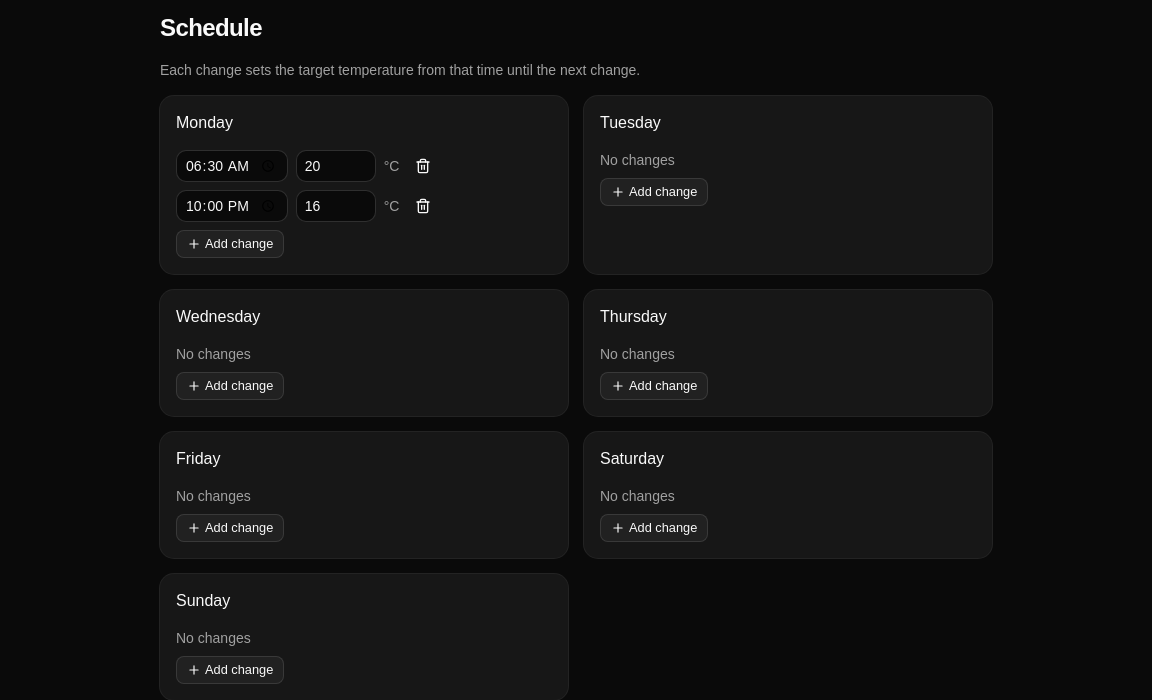
it: ScheduleEditor › shows a save failure
The image size is (1152, 700).
Expected: the time field named "Monday change 1 time" is shown, [176,150,288,182]
Click the button named "Remove Monday change 1": x=423, y=166 [407,150,439,182]
(page scrolled)
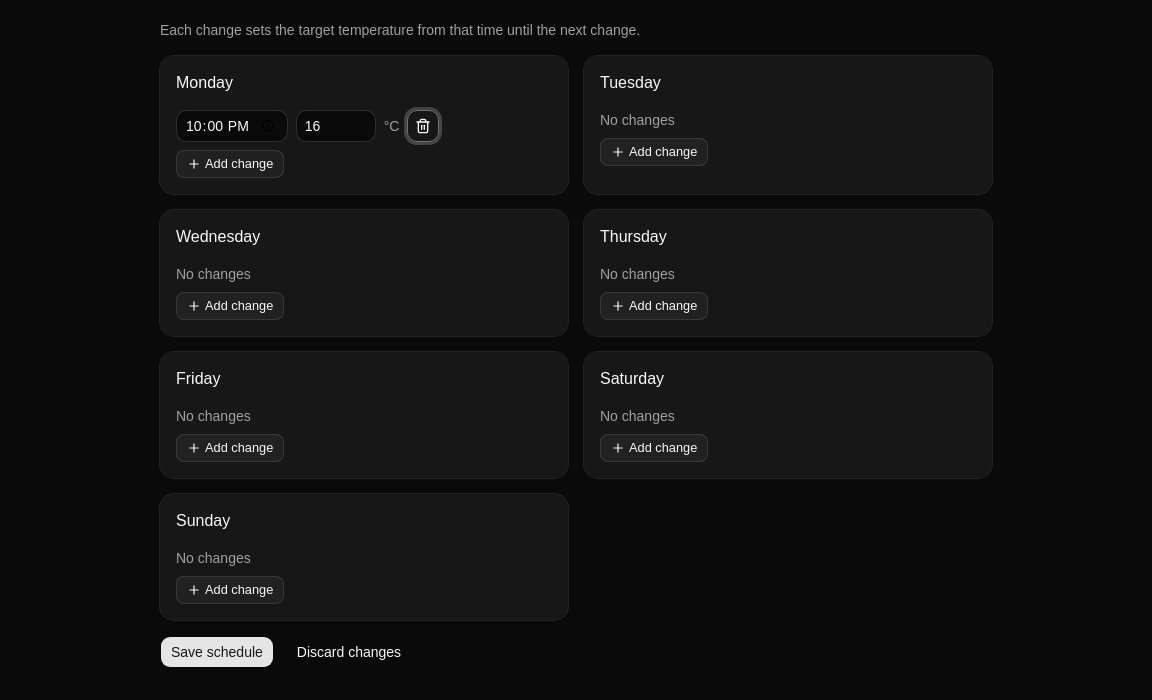
Click the button "Save schedule": x=217, y=652 [160,636,274,668]
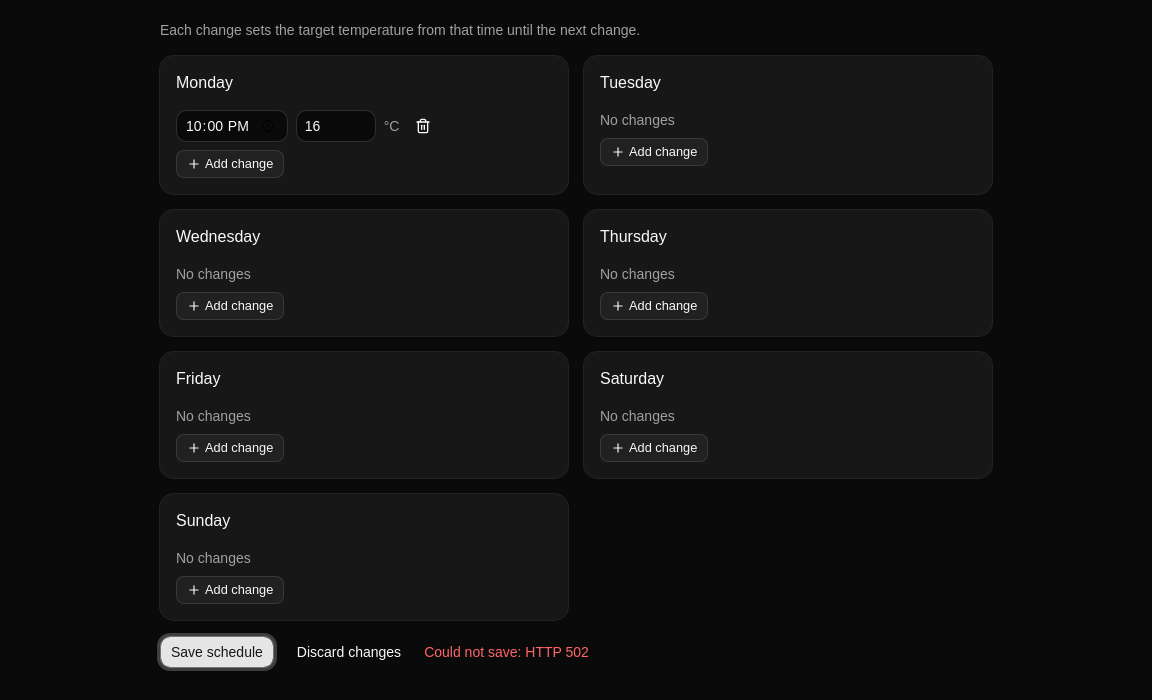
Now the text "Could not save: HTTP 502" is shown, box [424,642,589,662]
